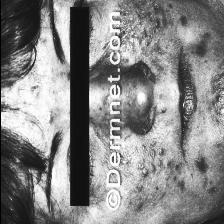Non-Cancerous Skin Condition: (134, 0, 224, 213), (126, 0, 182, 224), (15, 52, 58, 138)
